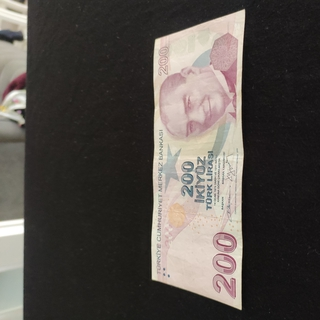200TLFront: (150, 8, 245, 312)
